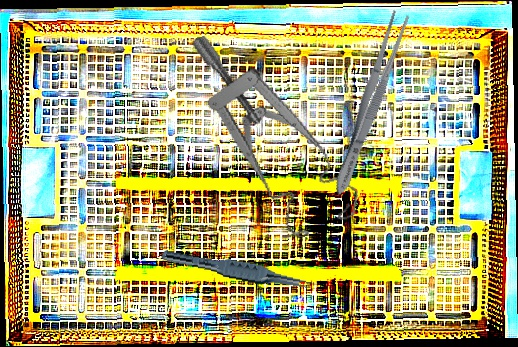Dressing Forceps: (328, 7, 413, 199)
Speculum: (189, 10, 365, 252)
Tissue Forceps: (159, 248, 320, 295)
